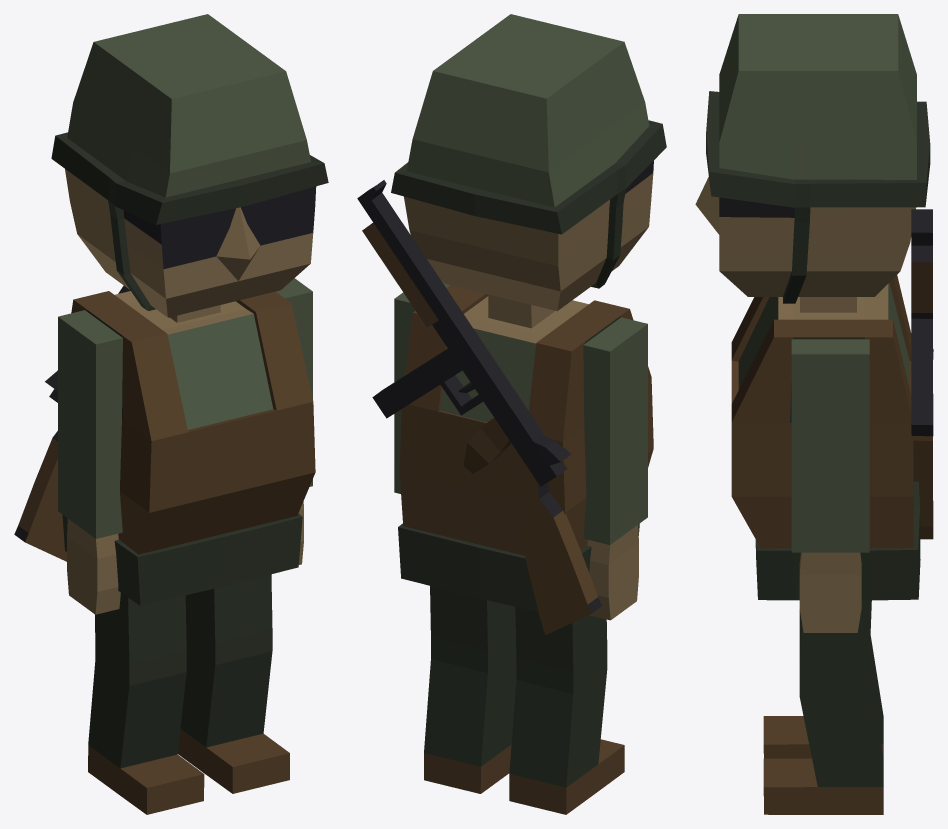
Rendered from Updated_Infantry.fbx.
3 renders of one model, left to right at view 1: azimuth 30°, elevation 25°; view 2: azimuth 150°, elevation 25°; view 3: azimuth 270°, elevation 25°, orthographic. The views are drawn at different scales.
Visible parts, largest first — view 1: Human.001, R_leg.007, R_leg.006, Arm_R.001, Gun.001, Arm_L.005; view 2: Human.001, Gun.001, R_leg.007, Arm_R.001, R_leg.006, Arm_L.005; view 3: Human.001, Arm_L.005, R_leg.006, Gun.001, R_leg.007.
Part boxes in pixels (box(x1,y1,x2,y2)): Human.001: box(51, 14, 328, 605); R_leg.007: box(88, 593, 204, 814); R_leg.006: box(177, 574, 289, 793); Arm_R.001: box(58, 310, 122, 614); Gun.001: box(14, 285, 130, 561); Arm_L.005: box(276, 278, 312, 564); Human.001: box(391, 14, 666, 611); Gun.001: box(357, 180, 601, 634); R_leg.007: box(509, 607, 624, 814); Arm_R.001: box(583, 317, 647, 620); R_leg.006: box(424, 586, 516, 793); Arm_L.005: box(394, 280, 449, 493); Human.001: box(695, 14, 930, 600); Arm_L.005: box(791, 339, 869, 632); R_leg.006: box(763, 600, 883, 814); Gun.001: box(911, 209, 933, 539); R_leg.007: box(763, 609, 883, 758).
Size of the model in its own units: 281 by 823 by 241.
1 material, 1 textured.
